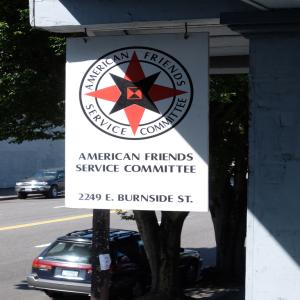Vehicle-registration-plate: (61, 271, 80, 279), (25, 190, 32, 193)
